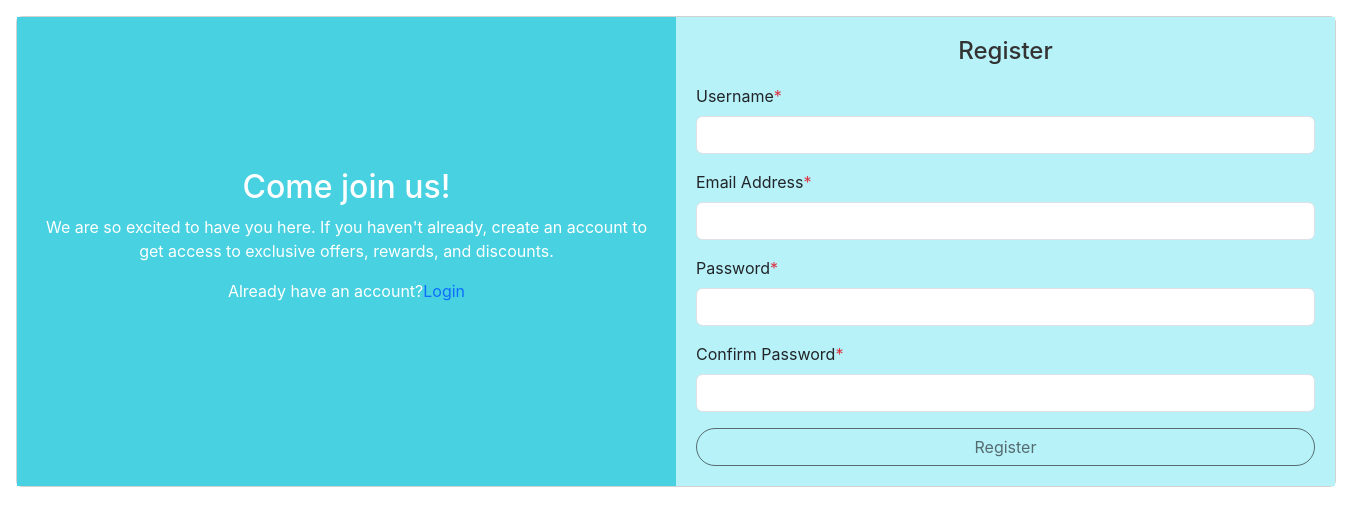
Test: Register component › displays error message if email is invalid
In the field labelled "Email Address*": (1006, 221) [696,202,1315,240], type "invalid-email"
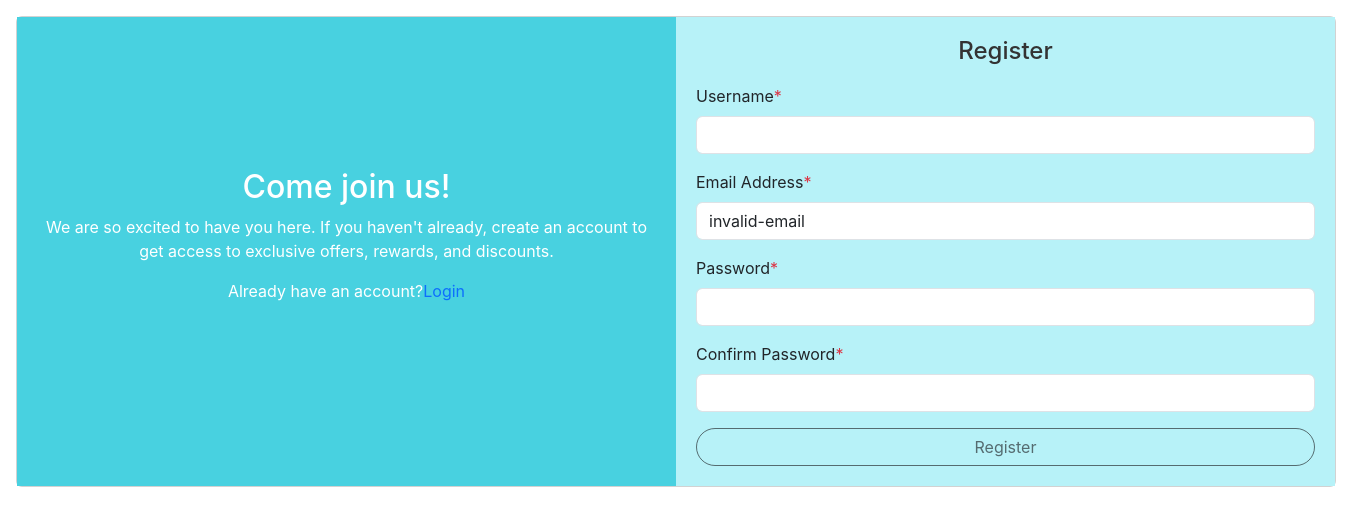
Leave the field labelled "Email Address*", box [696,202,1315,240]
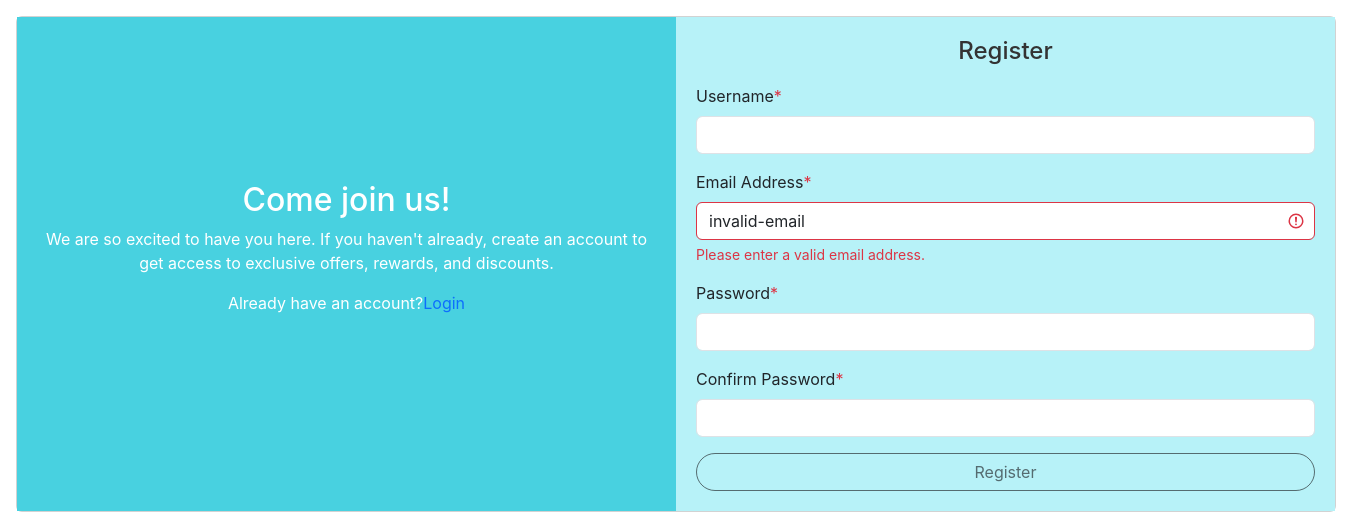
Expected: the text "Please enter a valid email address." is shown, [696,246,925,263]
